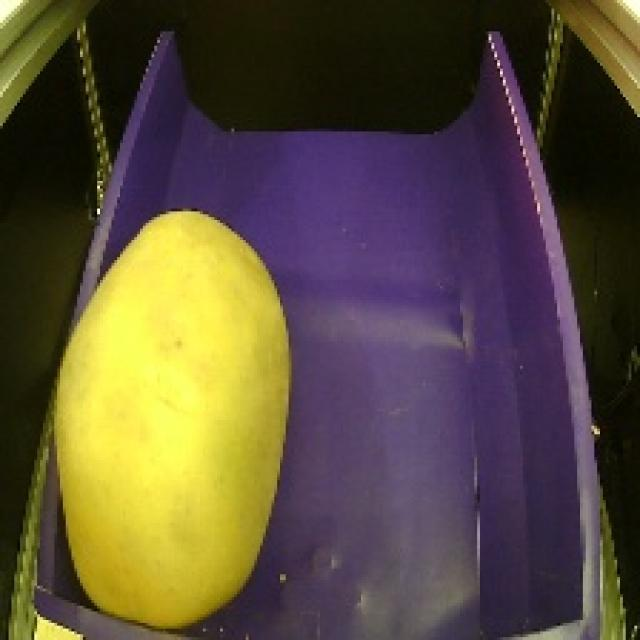full_potato: (31, 206, 304, 638)
